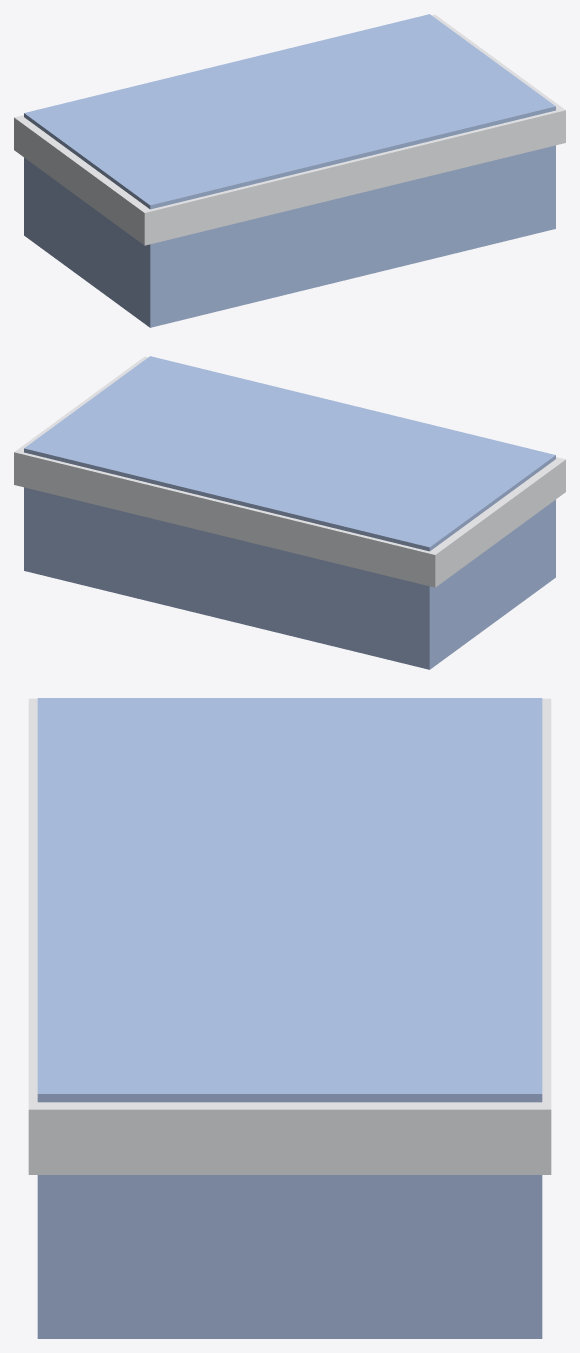
Rendered from pijama_cintura.glb.
3 renders of one model, top to bottom at view 1: azimuth 30°, elevation 25°; view 2: azimuth 150°, elevation 25°; view 3: azimuth 270°, elevation 25°, orthographic. The views are drawn at different scales.
Visible parts, largest first — view 1: pijama_cintura; view 2: pijama_cintura; view 3: pijama_cintura.
Part boxes in pixels (x1,y1,x2,y2): pijama_cintura: [14, 14, 565, 327]; pijama_cintura: [14, 356, 565, 669]; pijama_cintura: [28, 698, 551, 1338].
Bounding box in the file's own units: 0.54 × 0.15 × 0.29.
